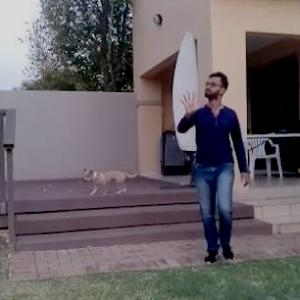follow_hand: (177, 87, 202, 118)
